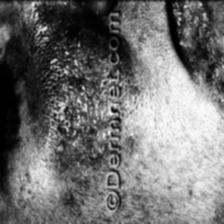Non-Cancerous Skin Condition: (27, 0, 108, 179), (192, 14, 224, 120)
